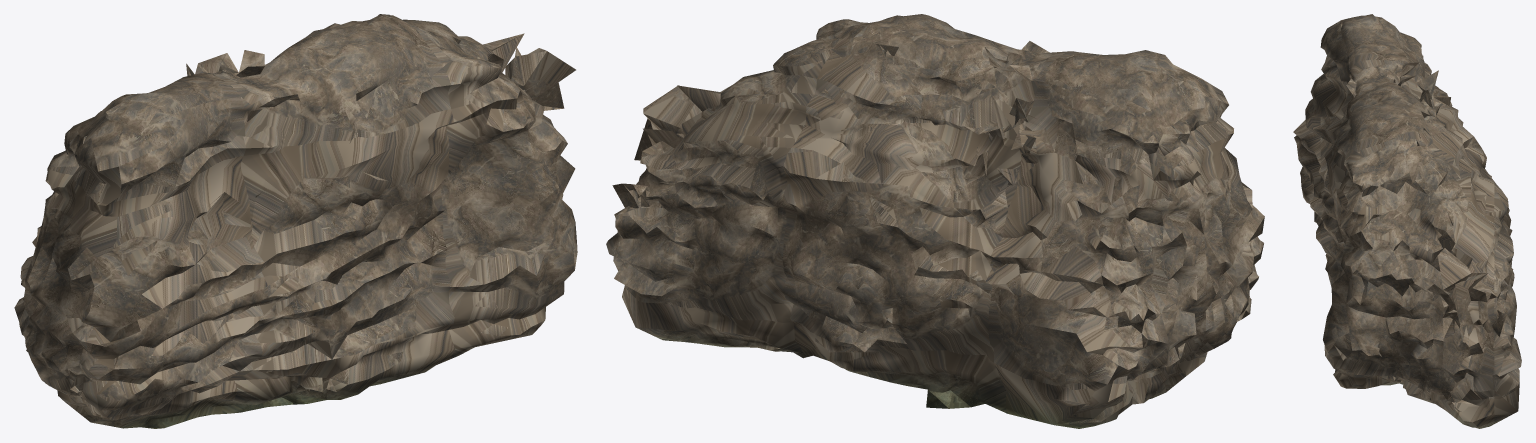
File: coast_cliff_b.glb
3 renders of one model, left to right at view 1: azimuth 30°, elevation 25°; view 2: azimuth 150°, elevation 25°; view 3: azimuth 270°, elevation 25°, orthographic. The views are drawn at different scales.
Parts seen in each view (by area): view 1: Cliff_Rock_Model; view 2: Cliff_Rock_Model; view 3: Cliff_Rock_Model.
Part boxes in pixels (x1,y1,x2,y2): Cliff_Rock_Model: (14, 14, 577, 428); Cliff_Rock_Model: (606, 14, 1264, 428); Cliff_Rock_Model: (1293, 14, 1521, 428).
Size of the model in its own units: 6.97 by 4.07 by 3.16.
Materials: 1 (1 with a texture image).
